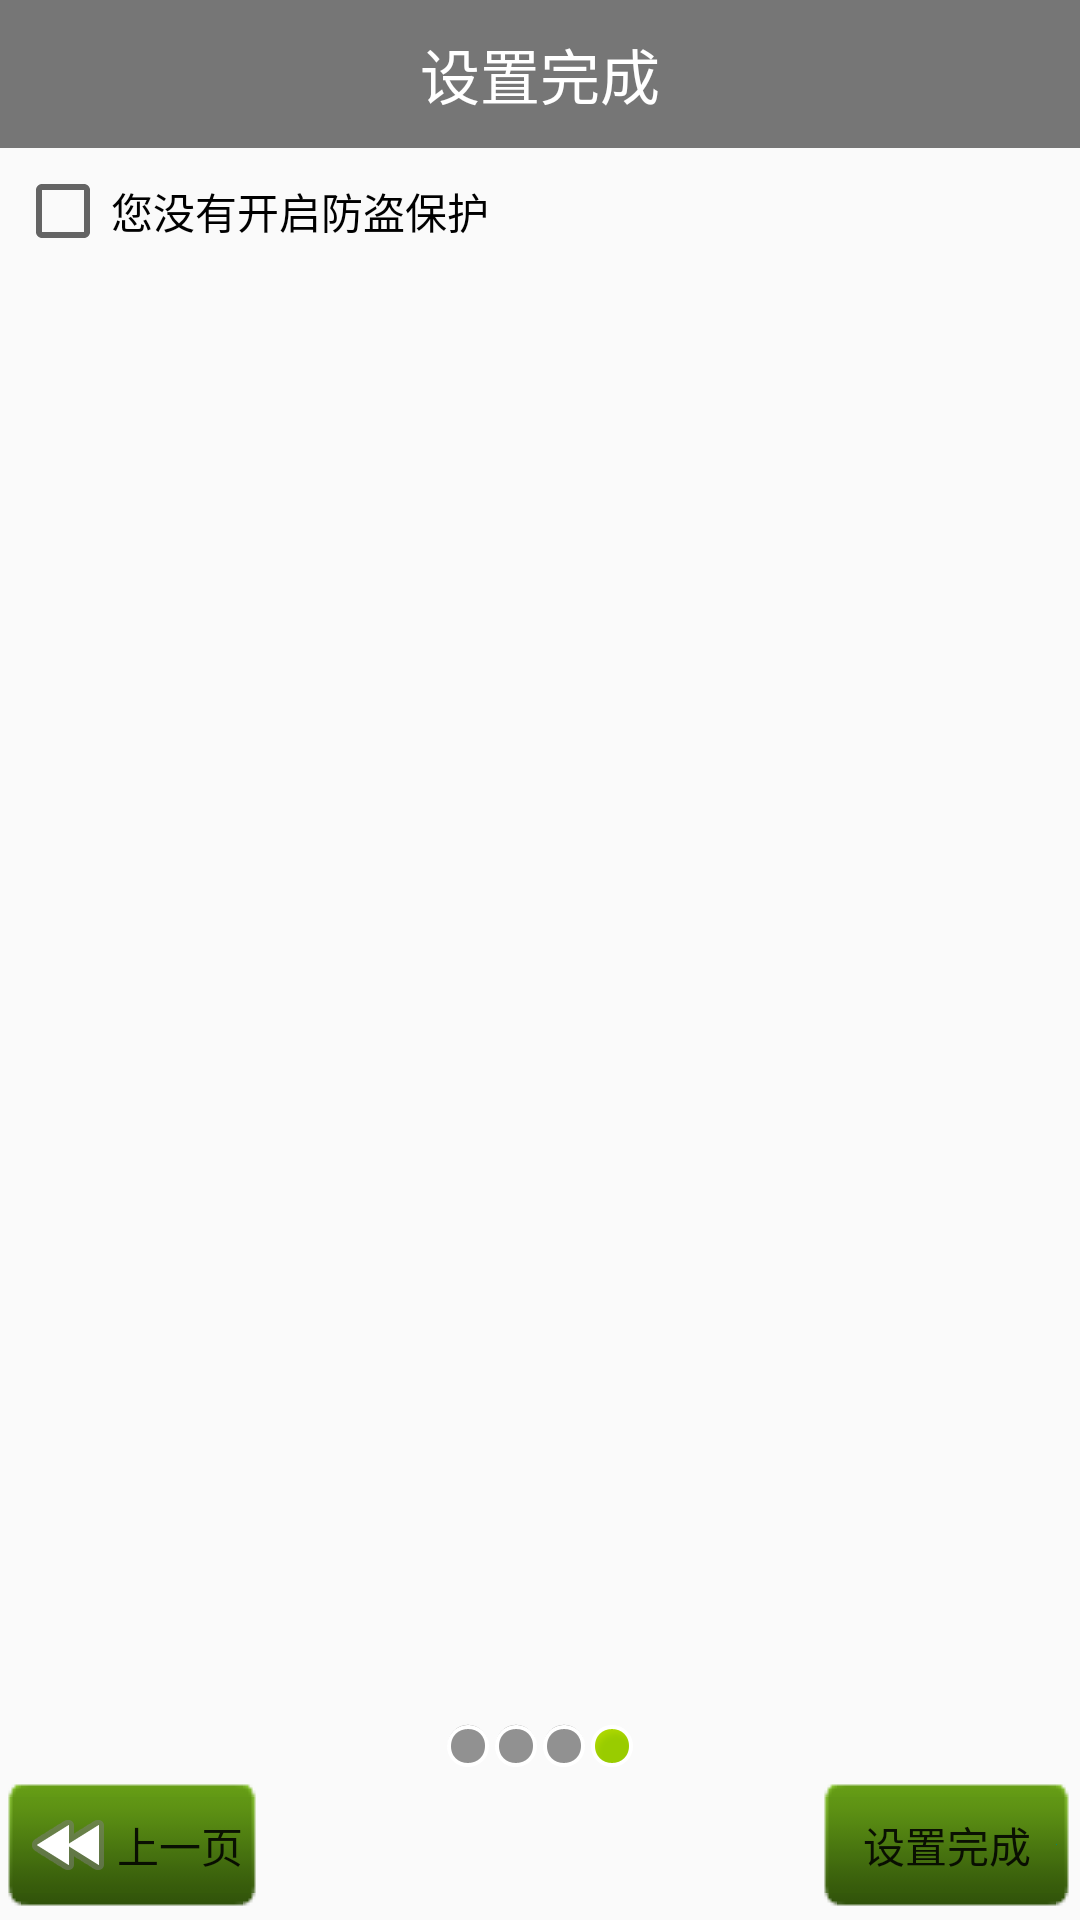

Locate icon controls on the screen. Image size 1080px x 1920px, boxes as (x1,y1,x2,y2).
presence invisible: (451,1725,485,1763), (499,1725,533,1763), (547,1725,581,1763)
presence online: (595,1729,629,1763)
